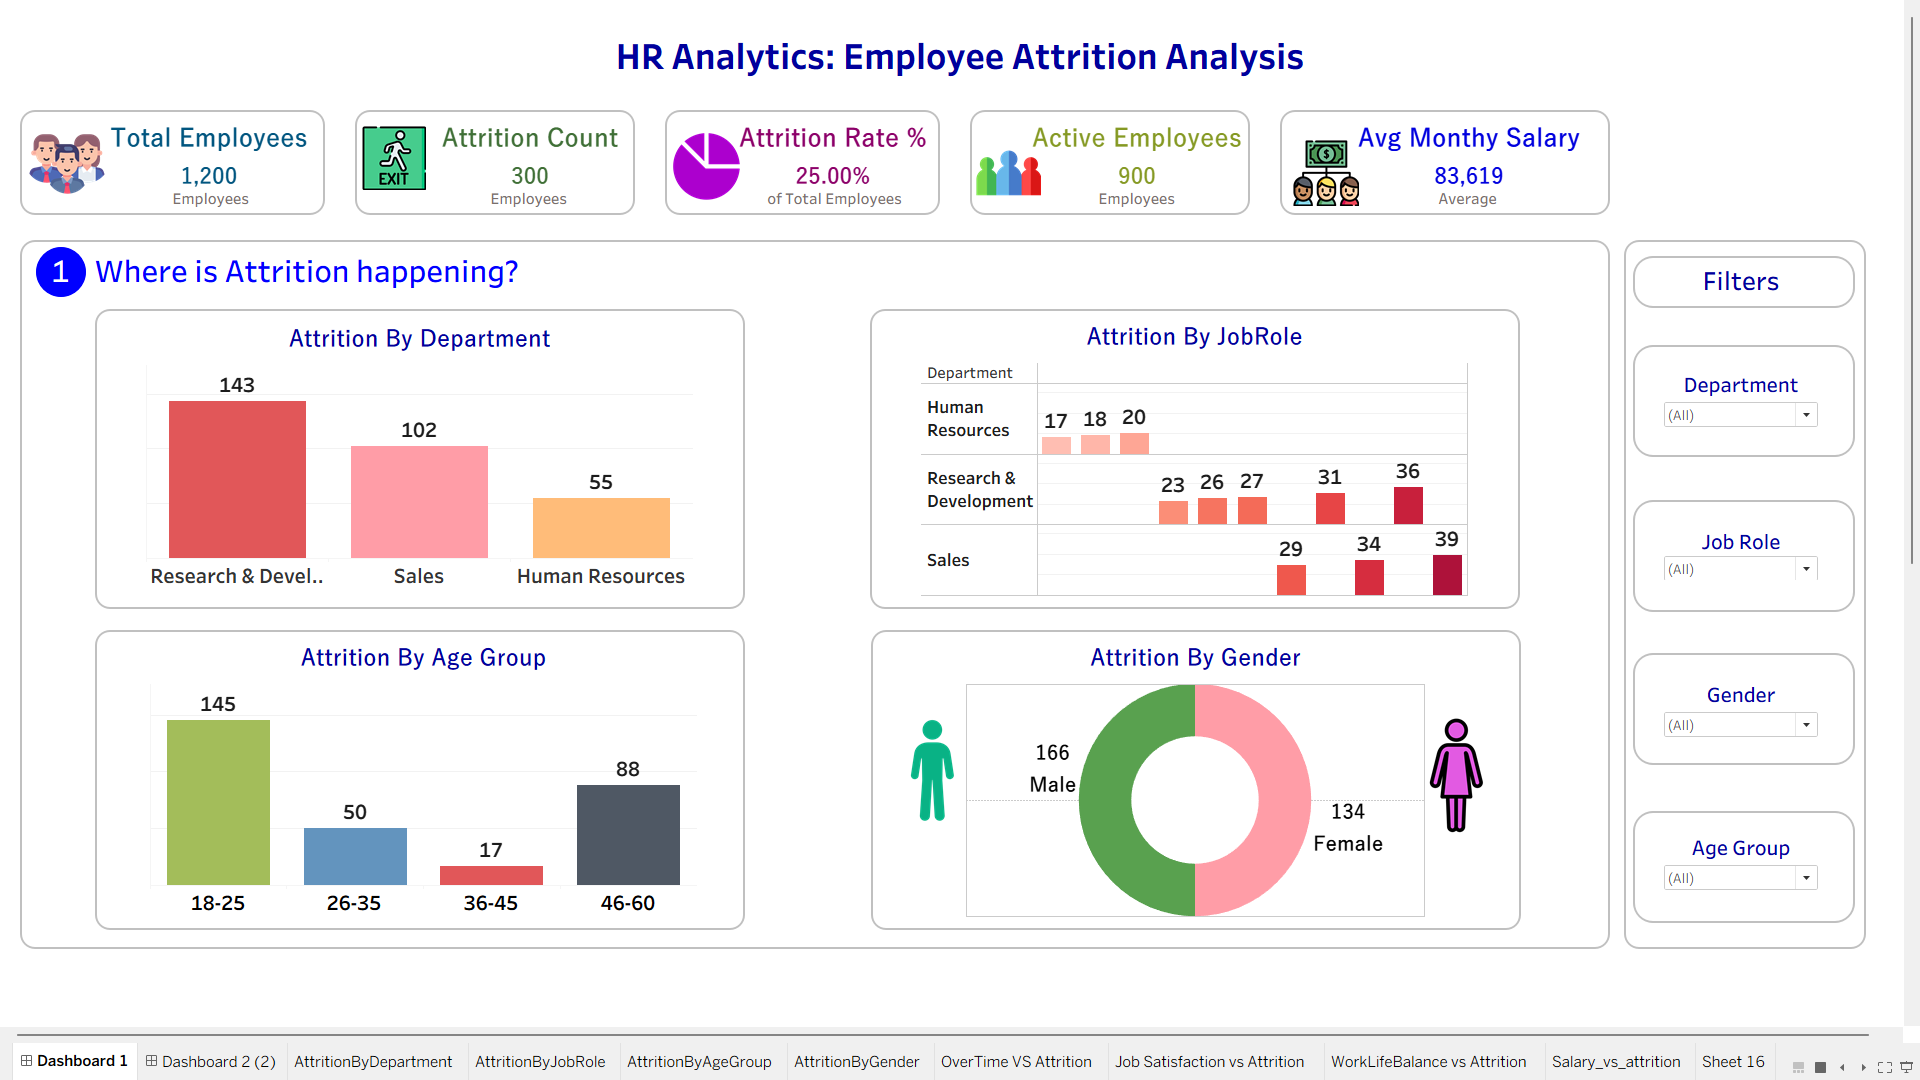

The page's visual inventory and layout, read from the dashboard file:
{"tool":"tableau","page":{"name":"Dashboard 1","canvas":[1000,1000],"units":"permille","ordinal":0},"visuals":[{"type":"text","box":[317.2,11.8,365.6,35.5]},{"type":"blank","box":[10.4,59.1,158.8,56.5]},{"type":"blank","box":[184.9,59.1,145.8,56.5]},{"type":"blank","box":[346.4,59.1,143.2,56.5]},{"type":"blank","box":[505.2,59.1,145.8,56.5]},{"type":"blank","box":[666.7,59.1,171.9,56.5]},{"type":"worksheet","title":"KPI_Total_Employees","mark":"Automatic","box":[51.6,66.1,115.6,37.6]},{"type":"worksheet","title":"KPI_Attrition_Count","mark":"Automatic","box":[224,66.1,106.2,37.6]},{"type":"worksheet","title":"KPI_Attrition_Rate","mark":"Automatic","box":[381.8,66.1,106.2,37.6]},{"type":"worksheet","title":"KPI_Active_Employees","mark":"Automatic","box":[534.9,66.1,114.6,37.6]},{"type":"worksheet","title":"KPI_Avg_Monthly_Income","mark":"Automatic","box":[702.6,66.1,126.6,37.6]},{"type":"image","param":"Image/division.png","box":[14.6,67.2,41.7,41.4]},{"type":"image","param":"Image/exit.png","box":[188.5,67.7,33.3,35.5]},{"type":"image","param":"Image/piechart.png","box":[349.5,70.4,36.5,37.6]},{"type":"image","param":"Image/group.png","box":[508.3,75.3,33.9,35]},{"type":"image","param":"Image/salary.png","box":[673.4,75.3,34.4,38.7]},{"type":"text","box":[88,98.4,52.1,16.1]},{"type":"text","box":[253.7,98.4,52.1,16.1]},{"type":"text","box":[397.9,98.4,75,16.1]},{"type":"text","box":[570.3,98.4,52.1,16.1]},{"type":"text","box":[747.4,98.4,41.7,16.1]},{"type":"text","box":[25,126.3,14.6,37.6]},{"type":"text","box":[47.4,126.3,246.9,37.6]},{"type":"blank","box":[10.4,129,828.1,381.2]},{"type":"blank","box":[845.8,129,126,381.2]},{"type":"blank","box":[18.8,132.8,26,26.9]},{"type":"blank","box":[850.5,137.6,115.6,28]},{"type":"text","box":[880.7,141.4,52.1,18.8]},{"type":"blank","box":[49.5,166.1,338.5,161.3]},{"type":"blank","box":[453.1,166.1,338.5,161.3]},{"type":"worksheet","title":"AttritionByJobRole","mark":"Automatic","rows":["Department","Attrition"],"cols":["JobRole"],"box":[479.7,171,284.9,149.5]},{"type":"worksheet","title":"AttritionByDepartment","mark":"Automatic","rows":["Attrition"],"cols":["Department"],"box":[76,172,284.9,149.5]},{"type":"blank","box":[850.5,185.5,115.6,60.2]},{"type":"filter","title":"AttritionByDepartment","param":"[federated.0n4uwvf1vhx9g50zst77a00rmqpx].[none:Department:nk]","box":[865.1,198.9,83.3,32.3]},{"type":"blank","box":[850.5,268.8,115.6,60.2]},{"type":"filter","title":"AttritionByJobRole","param":"[federated.0n4uwvf1vhx9g50zst77a00rmqpx].[none:JobRole:nk]","box":[865.1,283.3,83.3,28.5]},{"type":"blank","box":[49.5,338.7,338.5,161.3]},{"type":"blank","box":[453.7,338.7,338.5,161.3]},{"type":"worksheet","title":"AttritionByAgeGroup","mark":"Automatic","rows":["Attrition"],"cols":["AgeGroup"],"box":[78.1,343.6,284.9,149.5]},{"type":"worksheet","title":"AttritionByGender","mark":"Pie","rows":["Calculation_0693245863145472","Calculation_0693245863145472"],"box":[503.1,343.6,239.1,149.5]},{"type":"blank","box":[850.5,351.1,115.6,60.2]},{"type":"filter","title":"AttritionByGender","param":"[federated.0n4uwvf1vhx9g50zst77a00rmqpx].[none:Gender:nk]","box":[865.1,365.6,83.3,35.5]},{"type":"image","param":"Image/sign.png","box":[726.6,383.9,63.5,78.5]},{"type":"image","param":"Image/man.png","box":[457.8,385.5,55.2,72]},{"type":"blank","box":[850.5,436,115.6,60.2]},{"type":"filter","title":"AttritionByAgeGroup","param":"[federated.0n4uwvf1vhx9g50zst77a00rmqpx].[none:AgeGroup:nk]","box":[865.1,447.9,83.3,42.5]}]}

Visuals, with their boxes on the dashboard's canvas, which has no fixed pixel size, in thousandths of its width and height (x1, y1, x2, y2). These are canvas units, not pixel positions in the 1920x1080 screenshot, which may show the page scaled, cropped or inside an application window:
text: <bbox>317, 12, 683, 47</bbox>
blank: <bbox>10, 59, 169, 116</bbox>
blank: <bbox>185, 59, 331, 116</bbox>
blank: <bbox>346, 59, 490, 116</bbox>
blank: <bbox>505, 59, 651, 116</bbox>
blank: <bbox>667, 59, 839, 116</bbox>
"KPI_Total_Employees" worksheet: <bbox>52, 66, 167, 104</bbox>
"KPI_Attrition_Count" worksheet: <bbox>224, 66, 330, 104</bbox>
"KPI_Attrition_Rate" worksheet: <bbox>382, 66, 488, 104</bbox>
"KPI_Active_Employees" worksheet: <bbox>535, 66, 650, 104</bbox>
"KPI_Avg_Monthly_Income" worksheet: <bbox>703, 66, 829, 104</bbox>
image: <bbox>15, 67, 56, 109</bbox>
image: <bbox>188, 68, 222, 103</bbox>
image: <bbox>350, 70, 386, 108</bbox>
image: <bbox>508, 75, 542, 110</bbox>
image: <bbox>673, 75, 708, 114</bbox>
text: <bbox>88, 98, 140, 114</bbox>
text: <bbox>254, 98, 306, 114</bbox>
text: <bbox>398, 98, 473, 114</bbox>
text: <bbox>570, 98, 622, 114</bbox>
text: <bbox>747, 98, 789, 114</bbox>
text: <bbox>25, 126, 40, 164</bbox>
text: <bbox>47, 126, 294, 164</bbox>
blank: <bbox>10, 129, 838, 510</bbox>
blank: <bbox>846, 129, 972, 510</bbox>
blank: <bbox>19, 133, 45, 160</bbox>
blank: <bbox>850, 138, 966, 166</bbox>
text: <bbox>881, 141, 933, 160</bbox>
blank: <bbox>50, 166, 388, 327</bbox>
blank: <bbox>453, 166, 792, 327</bbox>
"AttritionByJobRole" worksheet: <bbox>480, 171, 765, 320</bbox>
"AttritionByDepartment" worksheet: <bbox>76, 172, 361, 322</bbox>
blank: <bbox>850, 186, 966, 246</bbox>
"AttritionByDepartment" filter: <bbox>865, 199, 948, 231</bbox>
blank: <bbox>850, 269, 966, 329</bbox>
"AttritionByJobRole" filter: <bbox>865, 283, 948, 312</bbox>
blank: <bbox>50, 339, 388, 500</bbox>
blank: <bbox>454, 339, 792, 500</bbox>
"AttritionByAgeGroup" worksheet: <bbox>78, 344, 363, 493</bbox>
"AttritionByGender" worksheet (Pie marks): <bbox>503, 344, 742, 493</bbox>
blank: <bbox>850, 351, 966, 411</bbox>
"AttritionByGender" filter: <bbox>865, 366, 948, 401</bbox>
image: <bbox>727, 384, 790, 462</bbox>
image: <bbox>458, 386, 513, 458</bbox>
blank: <bbox>850, 436, 966, 496</bbox>
"AttritionByAgeGroup" filter: <bbox>865, 448, 948, 490</bbox>
